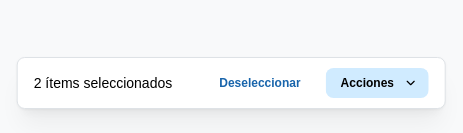
Test: SelectionBanner › con sólo onExport, el menú muestra "Exportar seleccionados" pero no "Eliminar seleccionados" ni "Editar seleccionados"
Click the button "Acciones" at (377, 83), box left=326, top=68, right=428, bottom=98
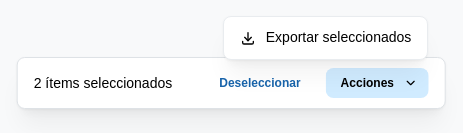
Now the menu item "Exportar seleccionados" is shown, box left=228, top=21, right=423, bottom=55
